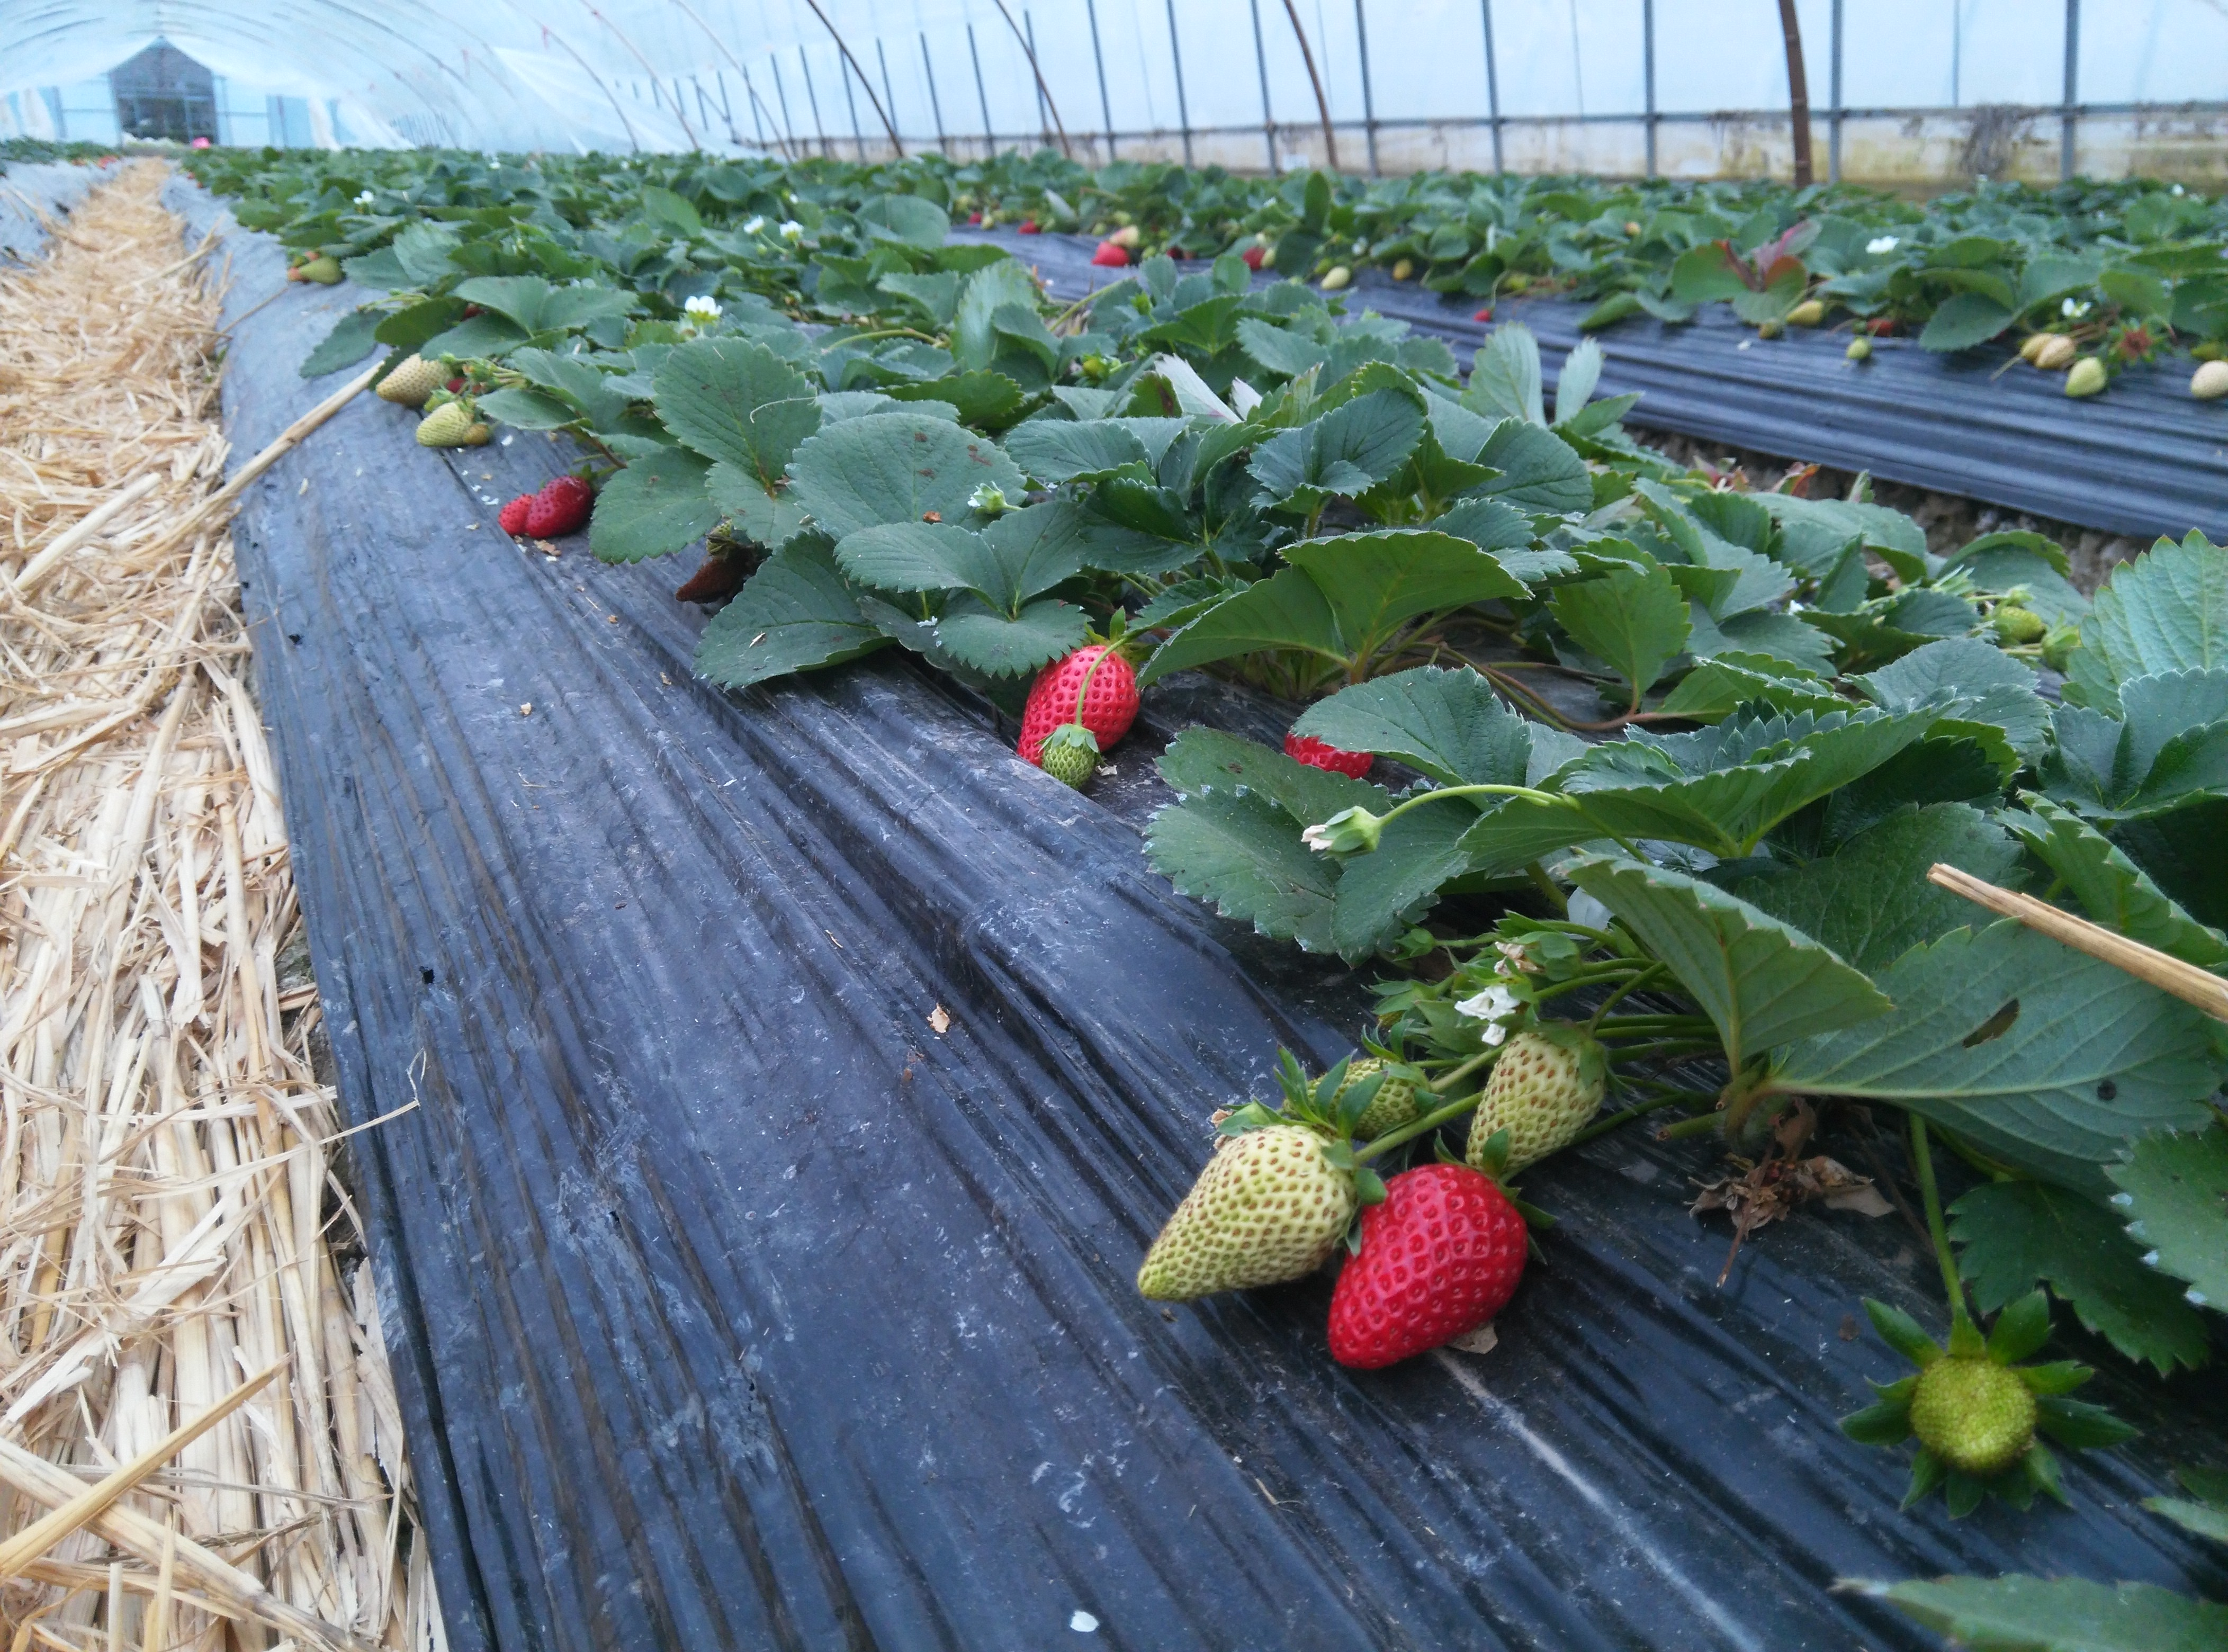StrawberryCone: (1291, 1156, 1569, 1367), (1001, 632, 1176, 798), (493, 470, 613, 562)
StrawberryIrremovable: (1114, 1119, 1374, 1298), (1470, 1022, 1621, 1170), (1914, 1345, 2051, 1492), (1253, 1029, 1426, 1133), (1954, 585, 2074, 661), (404, 399, 538, 458), (357, 331, 453, 394), (1043, 729, 1107, 786), (1308, 257, 1359, 307), (2023, 318, 2068, 371), (297, 253, 357, 293), (1782, 281, 1822, 331), (1737, 304, 1782, 344), (2065, 357, 2107, 394), (1838, 333, 1877, 368), (1386, 257, 1421, 283)
StrawberryOther: (1268, 691, 1400, 812), (1078, 220, 1154, 286)
StrawberryRemovable: (1305, 1168, 1560, 1359), (1013, 635, 1159, 790), (1275, 694, 1393, 805), (498, 477, 609, 554), (1083, 222, 1149, 286)
